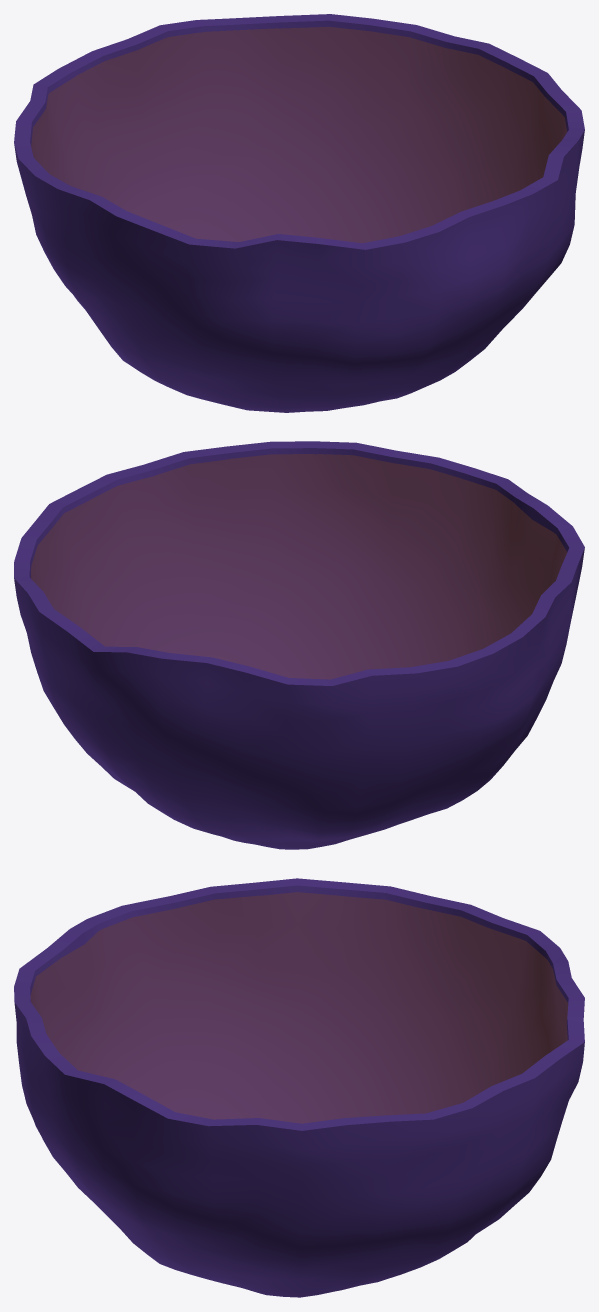
Rendered from Animal_Cell.FBX.
The picture shows the model from 3 angles, top to bottom: view 1: azimuth 30°, elevation 25°; view 2: azimuth 150°, elevation 25°; view 3: azimuth 270°, elevation 25°; orthographic projection. The views are drawn at different scales.
Visible parts, largest first — view 1: Plasma_Membrane_Animal_Cell_Cell, Animal_Cell_Cell_Cell_Fluid; view 2: Plasma_Membrane_Animal_Cell_Cell, Animal_Cell_Cell_Cell_Fluid; view 3: Plasma_Membrane_Animal_Cell_Cell, Animal_Cell_Cell_Cell_Fluid.
Part boxes in pixels (box(x1,y1,x2,y2)): Plasma_Membrane_Animal_Cell_Cell: box(14, 14, 584, 412); Animal_Cell_Cell_Cell_Fluid: box(31, 27, 566, 242); Plasma_Membrane_Animal_Cell_Cell: box(14, 441, 584, 849); Animal_Cell_Cell_Cell_Fluid: box(31, 454, 566, 679); Plasma_Membrane_Animal_Cell_Cell: box(14, 878, 584, 1297); Animal_Cell_Cell_Cell_Fluid: box(31, 892, 567, 1123).
Size of the model in its own units: 202 by 105 by 198.
